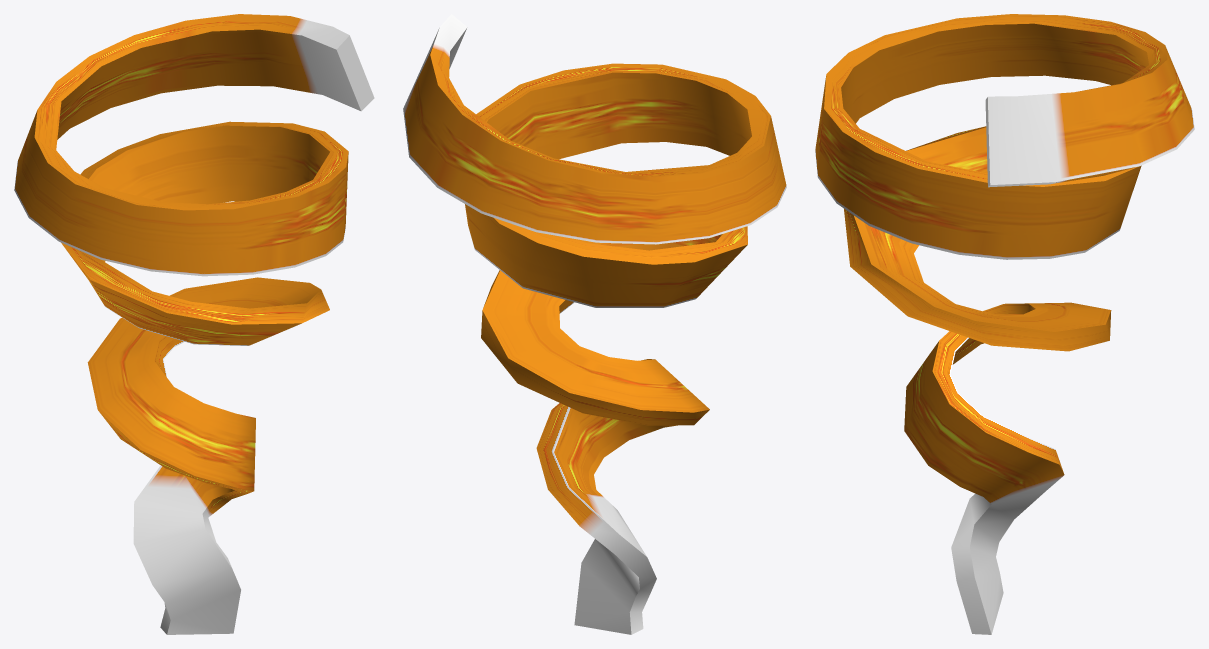
The model's file is longjaun 2.FBX.
3 views of the same model, side by side, from view 1: azimuth 30°, elevation 25°; view 2: azimuth 150°, elevation 25°; view 3: azimuth 270°, elevation 25° (orthographic). The views are drawn at different scales.
Parts seen in each view (by area): view 1: Helix001; view 2: Helix001; view 3: Helix001.
Boxes of the visible parts, bbox=[...] form: Helix001: bbox=[14, 14, 374, 634]; Helix001: bbox=[403, 14, 786, 634]; Helix001: bbox=[815, 14, 1194, 634].
Bounding box in the file's own units: 2.07 × 3.36 × 1.92.
